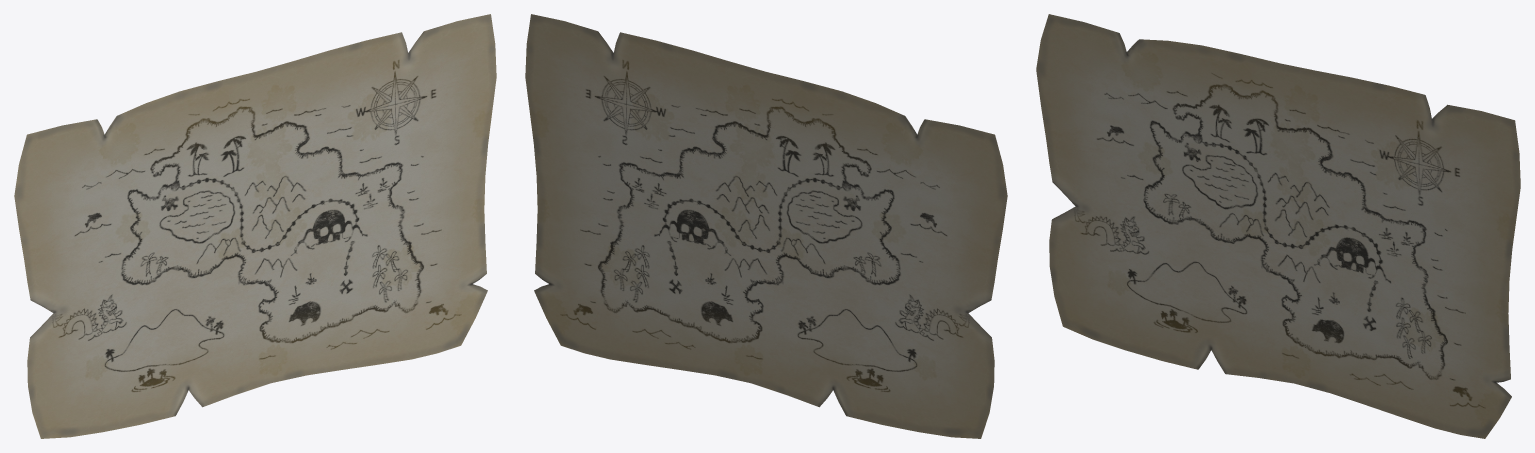
File: seachart.glb
The picture shows the model from 3 angles, left to right: view 1: azimuth 30°, elevation 25°; view 2: azimuth 150°, elevation 25°; view 3: azimuth 330°, elevation 25°; orthographic projection.
Parts seen in each view (by area): view 1: map_0; view 2: map_0; view 3: map_0.
Boxes of the visible parts, left/top/right/bottom form: map_0: left=14, top=14, right=496, bottom=438; map_0: left=525, top=14, right=1007, bottom=438; map_0: left=1036, top=14, right=1520, bottom=438.
Bounding box in the file's own units: 1.99 × 1.3 × 3.02e-08.
1 material, 1 textured.
